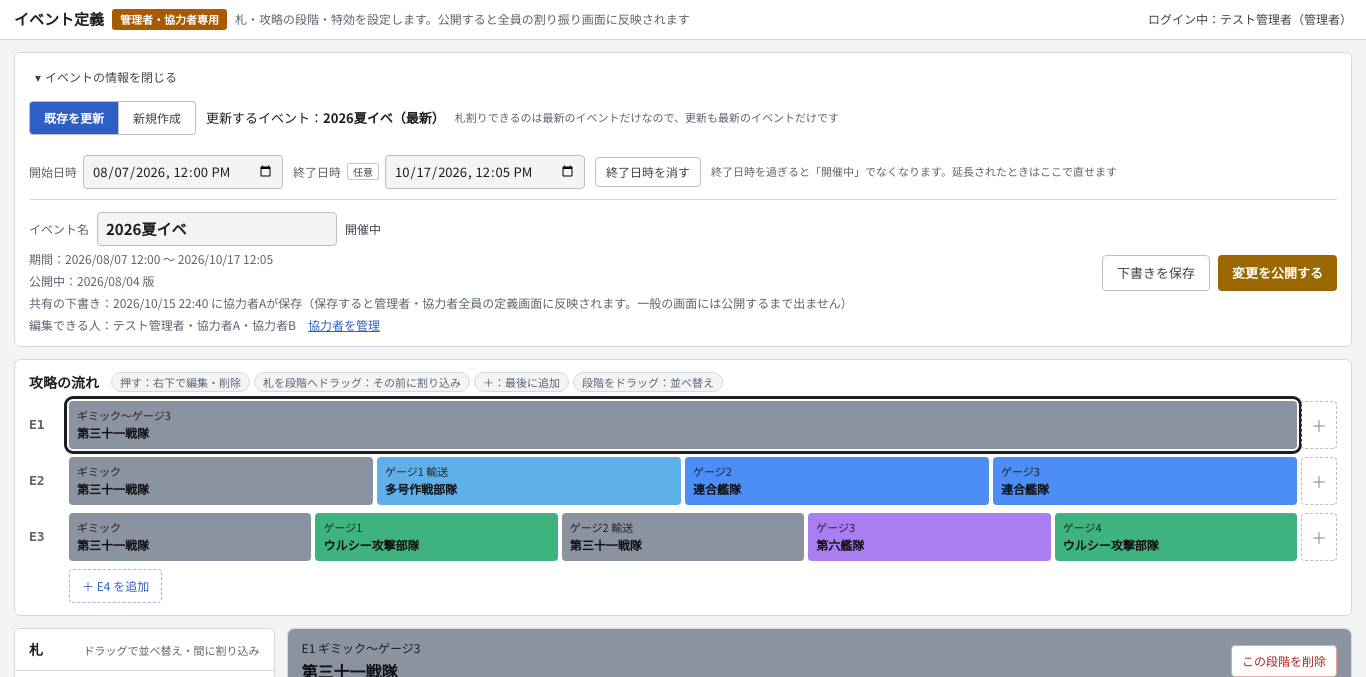
Test: イベント定義の画面（PlanEditor）：PR-12b のレビュー P1（PR-14） › 保存が終わった後なら、終了の案内の「新しいイベントを作成」で新規作成に切り替わる（busy の間だけ止める）
Expected: the element "攻略の流れ" is shown, [14,358,1352,616]
Click the button "ゲージ3 連合艦隊".
click(1020, 470)  # box [993,456,1297,504]
(page scrolled)
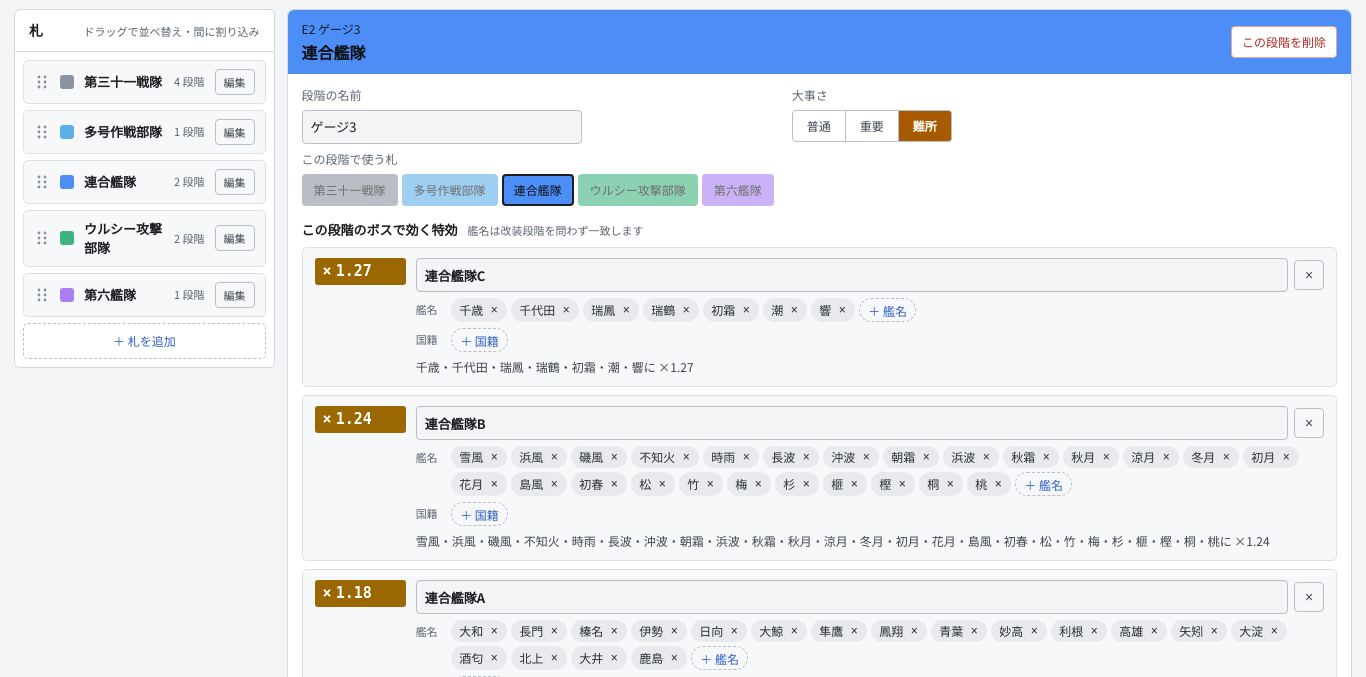
Click the button "普通".
click(819, 126)  # box [792,110,846,142]
(page scrolled)
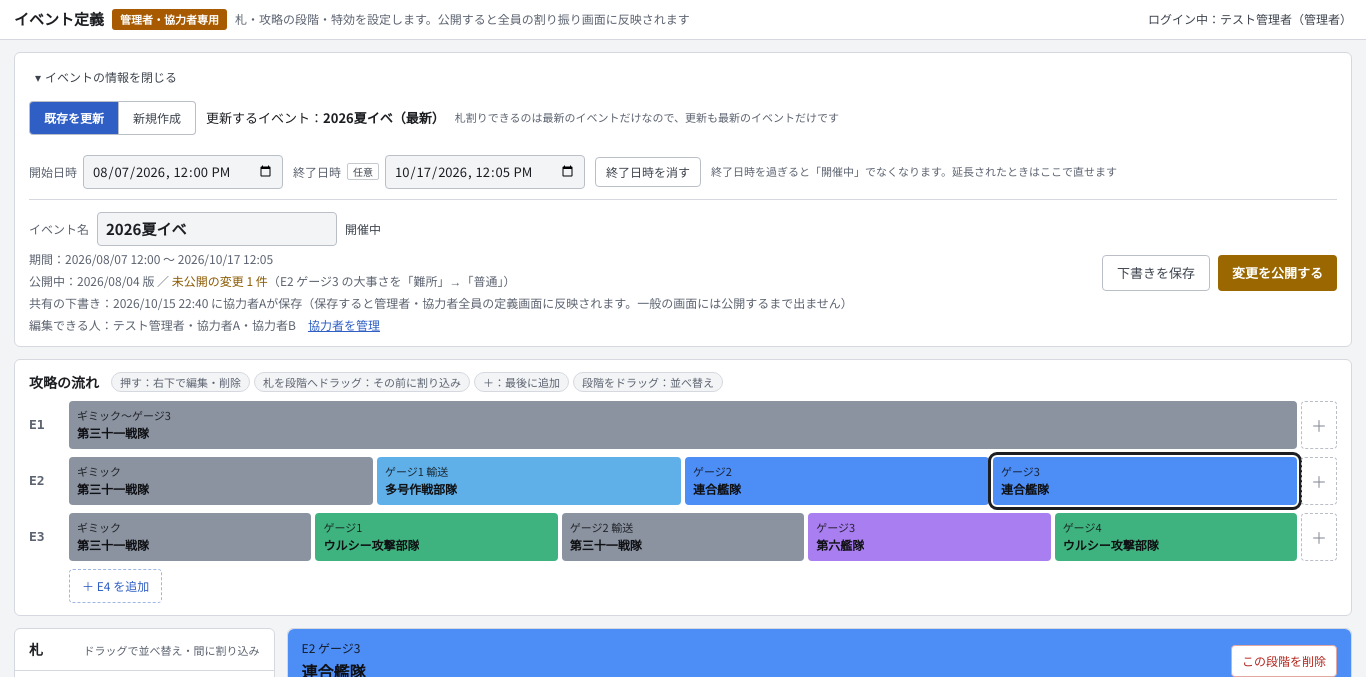
Click the button "下書きを保存".
click(1156, 272)  # box [1102,254,1210,290]
Wait 30000 ms
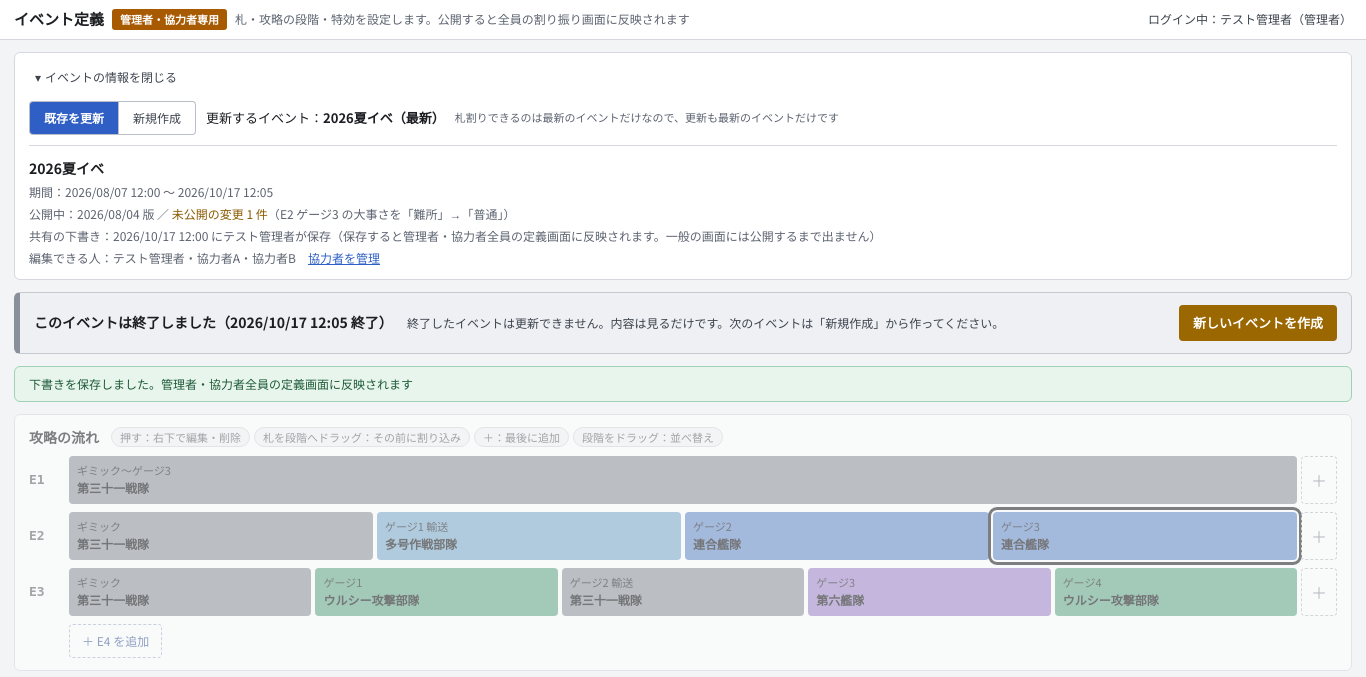
Expected: the radio button labelled "新規作成" is enabled, [119,100,196,134]
Click the button "新しいイベントを作成".
click(1258, 322)  # box [1179,304,1337,340]
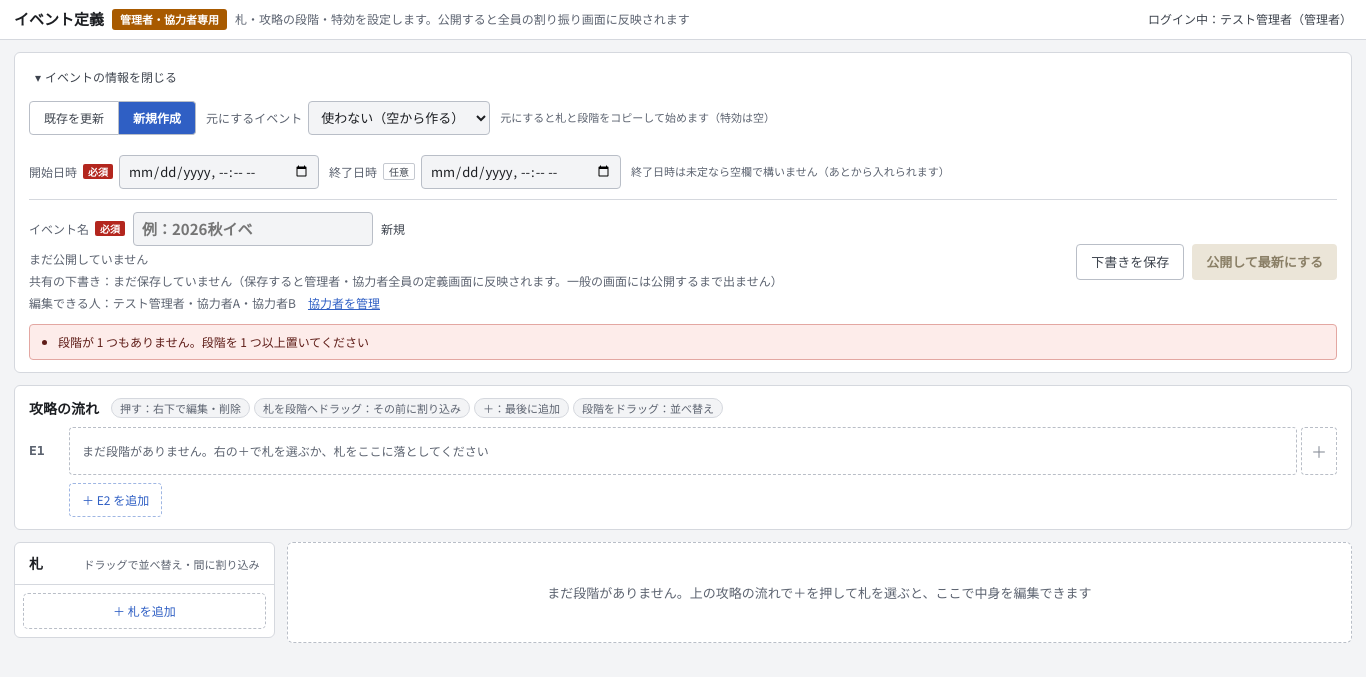
Expected: the radio button labelled "新規作成" is checked, [119,100,196,134]
Expected: the button "公開して最新にする" is shown, [1192,244,1337,280]
